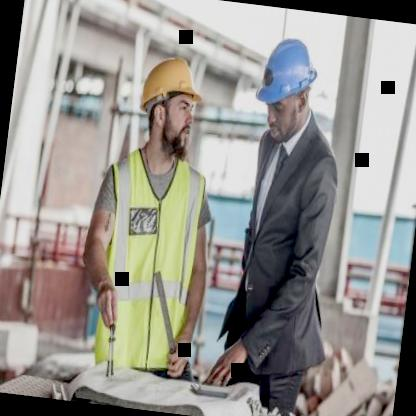helmet: (130, 43, 212, 162), (249, 24, 326, 146)
